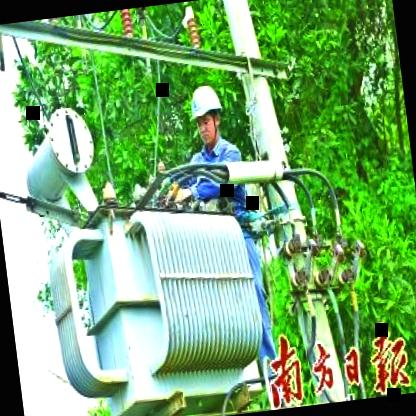helmet: (184, 78, 228, 151)
